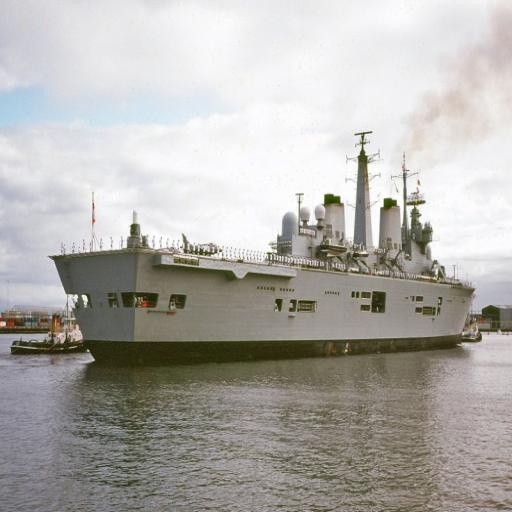Portanaves: (49, 120, 479, 372)
